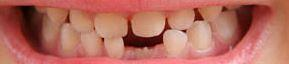Hypodontia: (119, 33, 168, 56)
